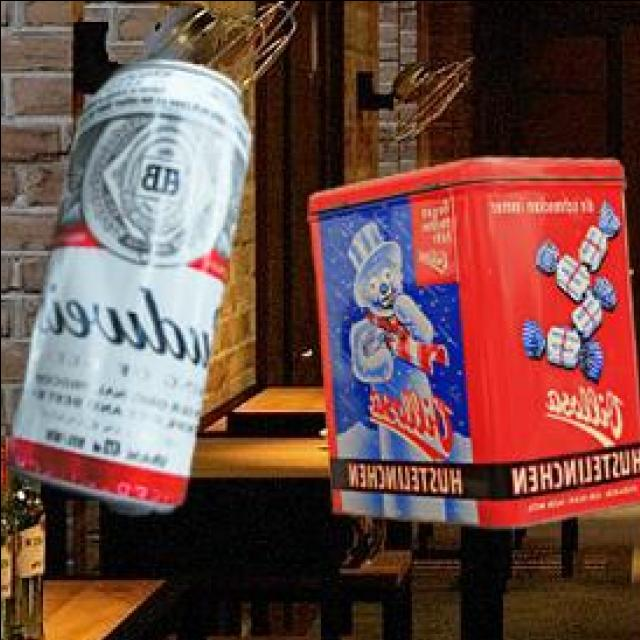logam: (312, 155, 640, 524), (8, 55, 253, 508)
